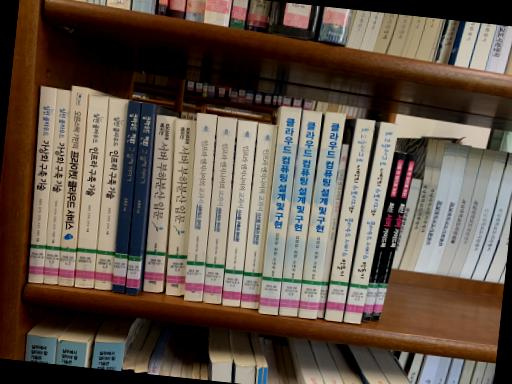book-spine: (342, 122, 398, 324), (324, 118, 375, 322), (298, 112, 345, 319), (278, 110, 322, 315), (258, 106, 301, 314), (371, 154, 418, 320), (361, 151, 406, 320), (93, 97, 128, 290), (240, 123, 276, 309), (221, 121, 257, 306), (74, 94, 108, 287), (203, 116, 237, 303), (184, 112, 217, 301), (57, 86, 87, 286), (112, 100, 142, 294), (124, 102, 154, 295), (143, 114, 175, 293), (316, 144, 349, 317), (28, 85, 56, 283), (42, 88, 70, 284), (165, 119, 196, 294)
